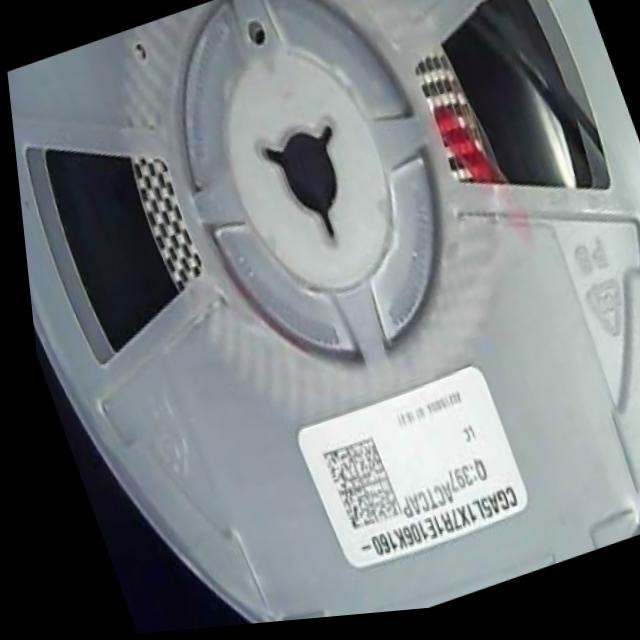datamatrix: (308, 438, 395, 543)
